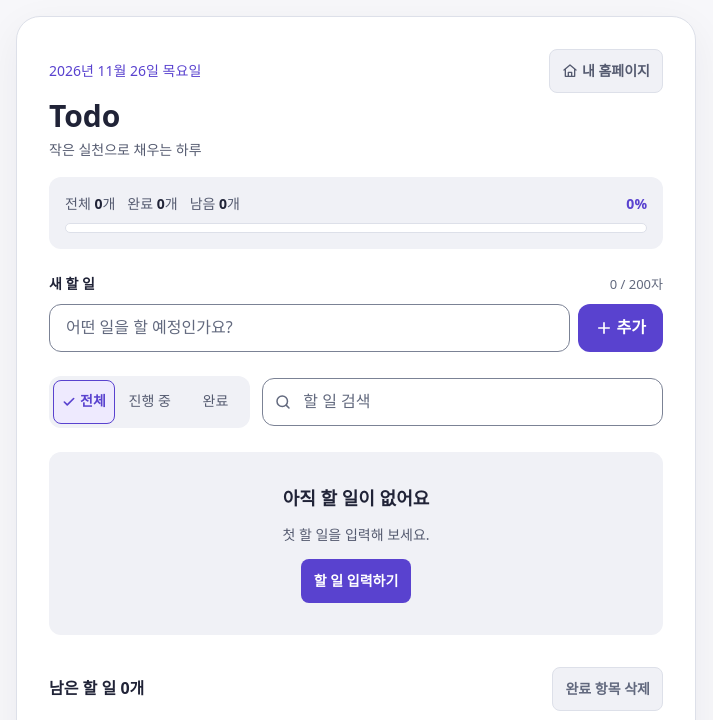
Scenario: TodoList 앱 통합 테스트 › 완료와 미완료 전환 시 진행률이 갱신되고 항목 순서가 유지된다
This screenshot has width=713, height=720.
Type "운동하기" into the field labelled "새 할 일" at (309, 328), box [49,304,570,352]
Then press Enter
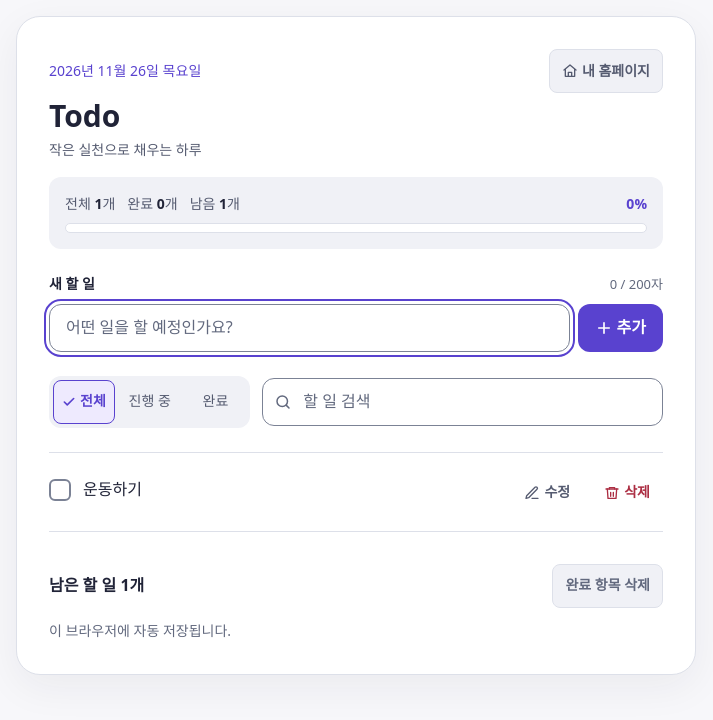
Type "책 읽기" into the field labelled "새 할 일" at (309, 328), box [49,304,570,352]
Then press Enter
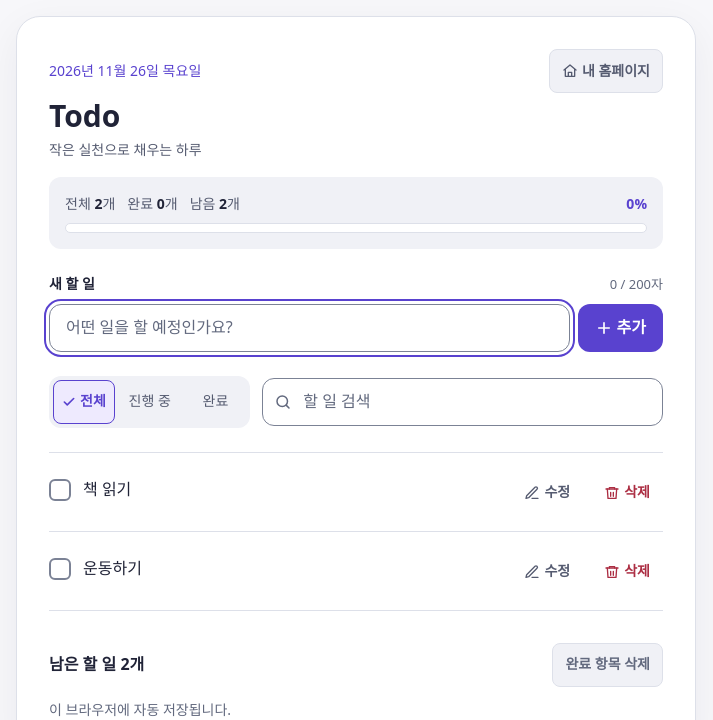
Click the checkbox labelled "책 읽기" at (60, 490), box [49,479,71,501]
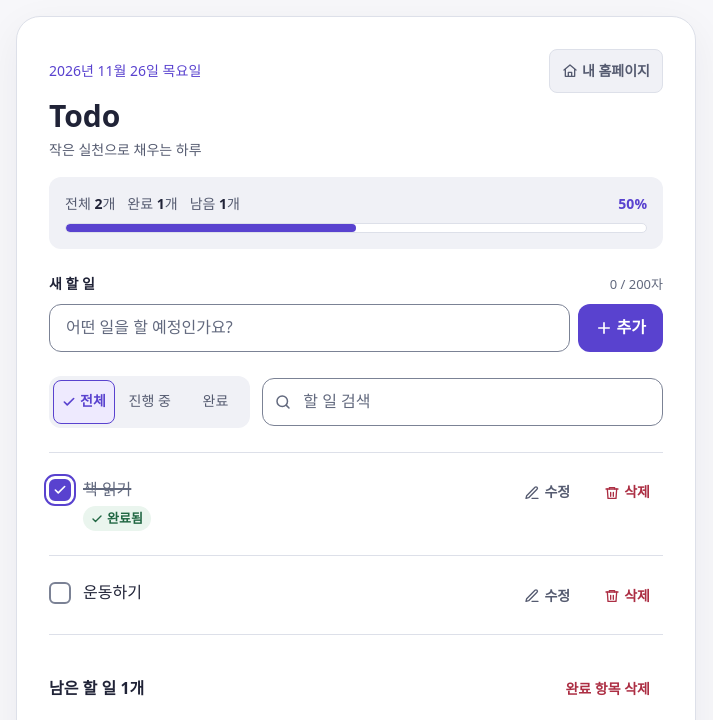
Now the checkbox labelled "책 읽기" is checked, box [49,479,71,501]
Now the text "완료됨" is shown, box [107,508,143,529]
Now the text "남은 할 일 1개" is shown, box [49,676,144,702]
